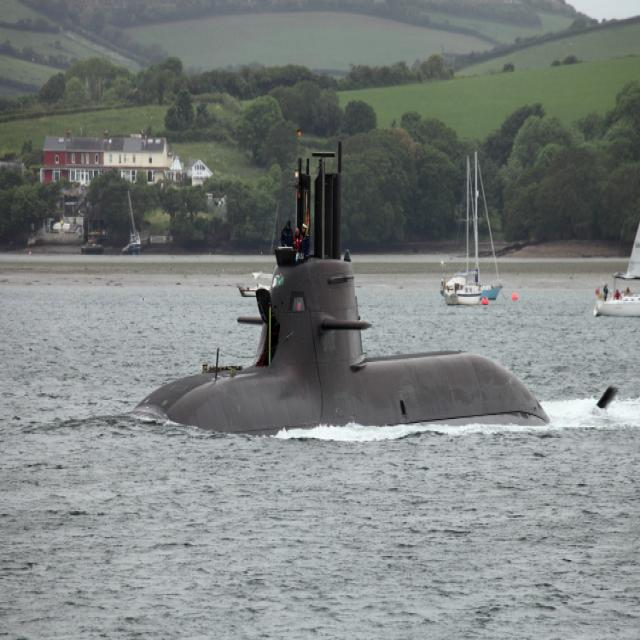submarine: (127, 126, 617, 439)
